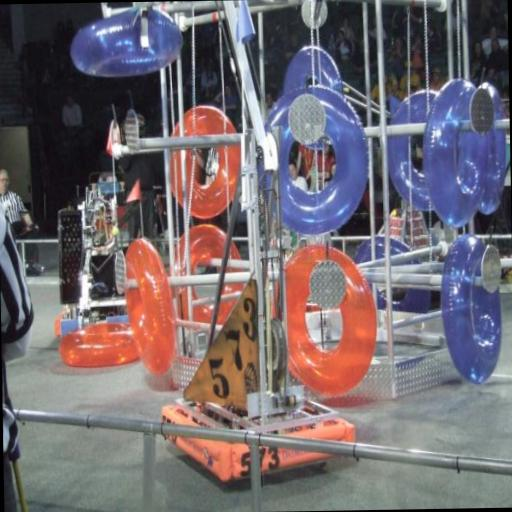robot: (154, 120, 358, 485), (58, 171, 154, 337)
